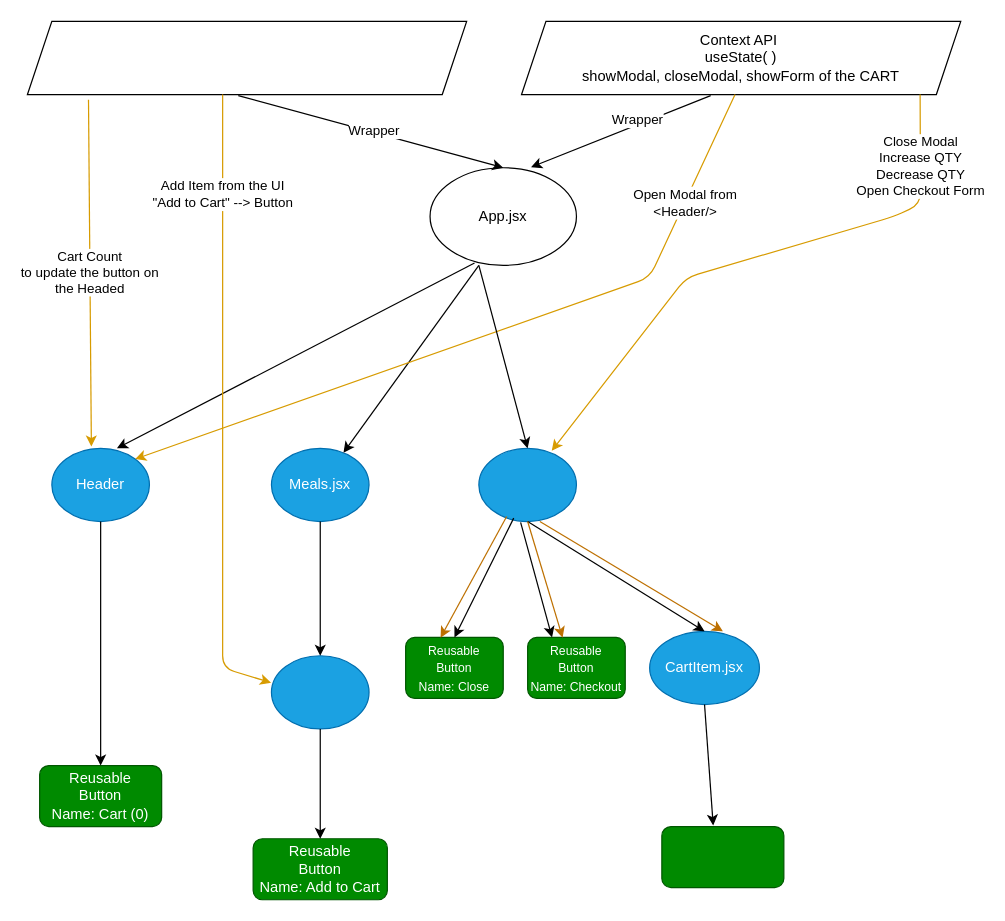
Image size: 1005x921. Some labels were removed from this diagram. Each missing label, with the centre of its shape:
Cart.jsx: (527,484)
Context API useReducer( ) addItem and removeItem to CART: (246,57)
MealItem.jsx: (319,692)
Reusable Modal or Pop-up: (722,856)
